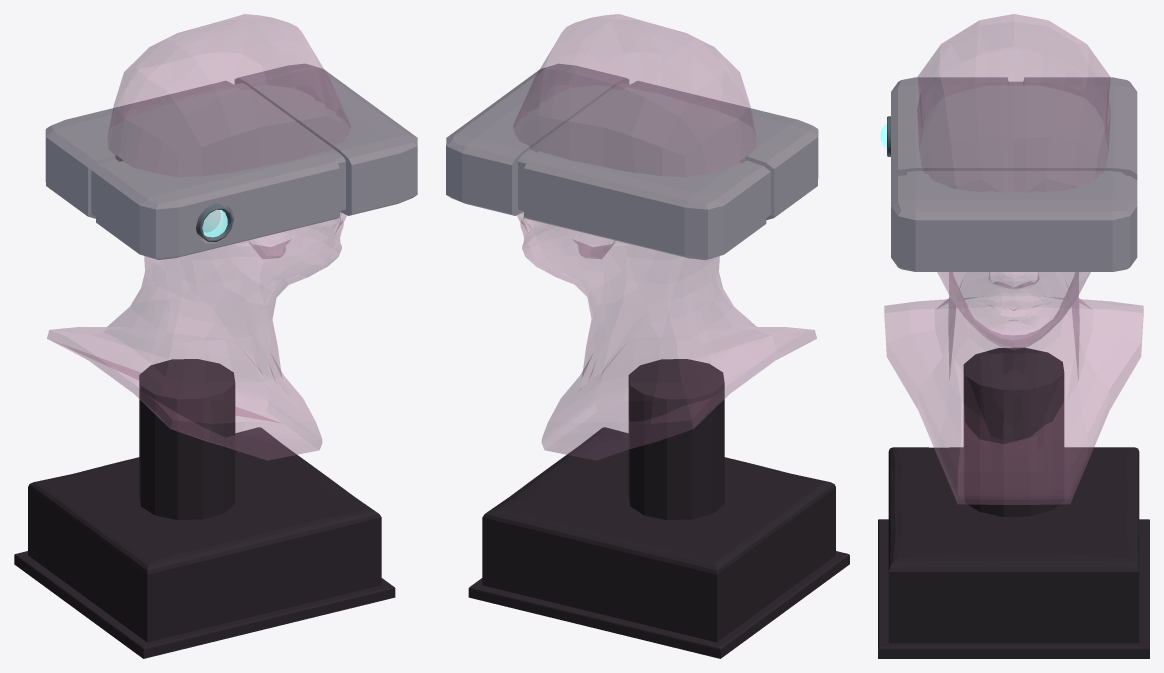
Rendered from visor.gltf.
3 renders of one model, left to right at view 1: azimuth 30°, elevation 25°; view 2: azimuth 150°, elevation 25°; view 3: azimuth 270°, elevation 25°, orthographic. The views are drawn at different scales.
Visible parts, largest first — view 1: Cube.002, bust, Cube.001; view 2: Cube.002, bust, Cube.001; view 3: bust, Cube.002, Cube.001.
Part boxes in pixels (<box>): Cube.002: <box>14,359,395,658</box>; bust: <box>47,14,350,460</box>; Cube.001: <box>45,63,417,259</box>; Cube.002: <box>468,359,849,658</box>; bust: <box>513,14,816,460</box>; Cube.001: <box>446,63,818,260</box>; bust: <box>884,14,1143,504</box>; Cube.002: <box>878,347,1149,658</box>; Cube.001: <box>887,77,1137,271</box>.
Size of the model in its own units: 2.01 by 3.58 by 1.54.
